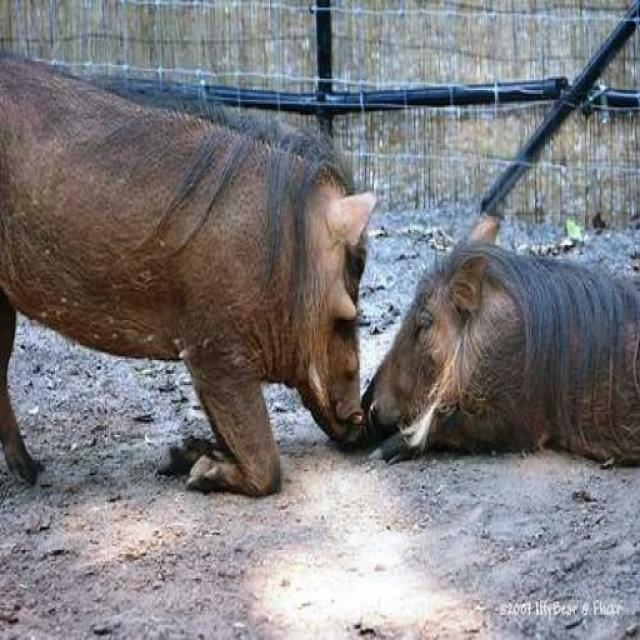pig: (0, 39, 362, 526), (363, 207, 640, 498)
